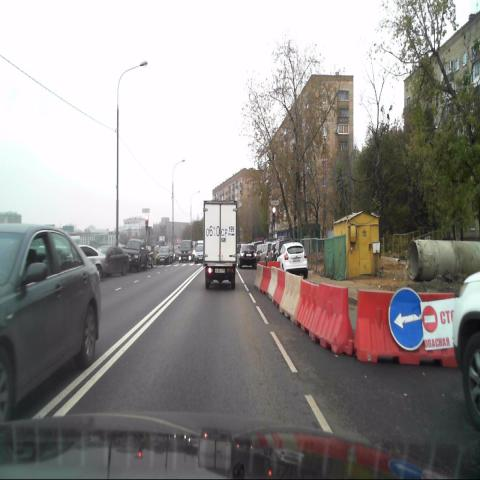4_1_2_2: (388, 287, 422, 351)
